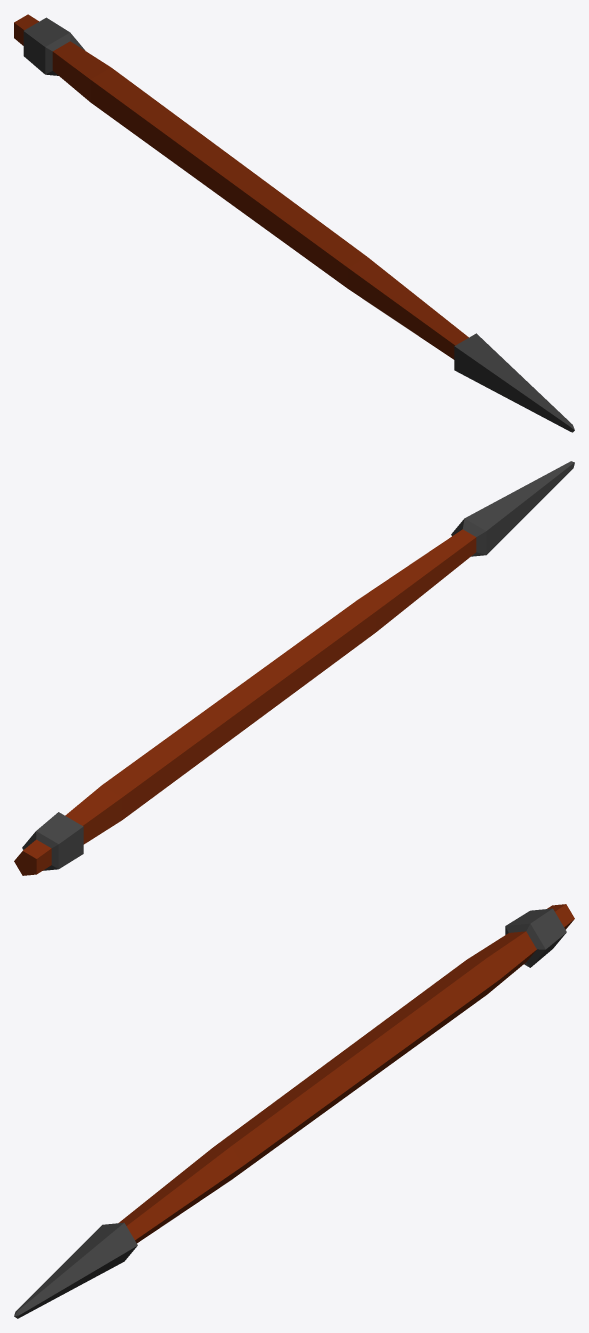
Rendered from Truten_Spear.FBX.
3 renders of one model, top to bottom at view 1: azimuth 30°, elevation 25°; view 2: azimuth 150°, elevation 25°; view 3: azimuth 330°, elevation 25°, orthographic.
Visible parts, largest first — view 1: Truten_Spear; view 2: Truten_Spear; view 3: Truten_Spear.
Part boxes in pixels (box(x1,y1,x2,y2)): Truten_Spear: box(14, 14, 574, 432); Truten_Spear: box(14, 461, 574, 875); Truten_Spear: box(14, 904, 574, 1318).
Size of the model in its own units: 2.4 by 2.53 by 56.47.
